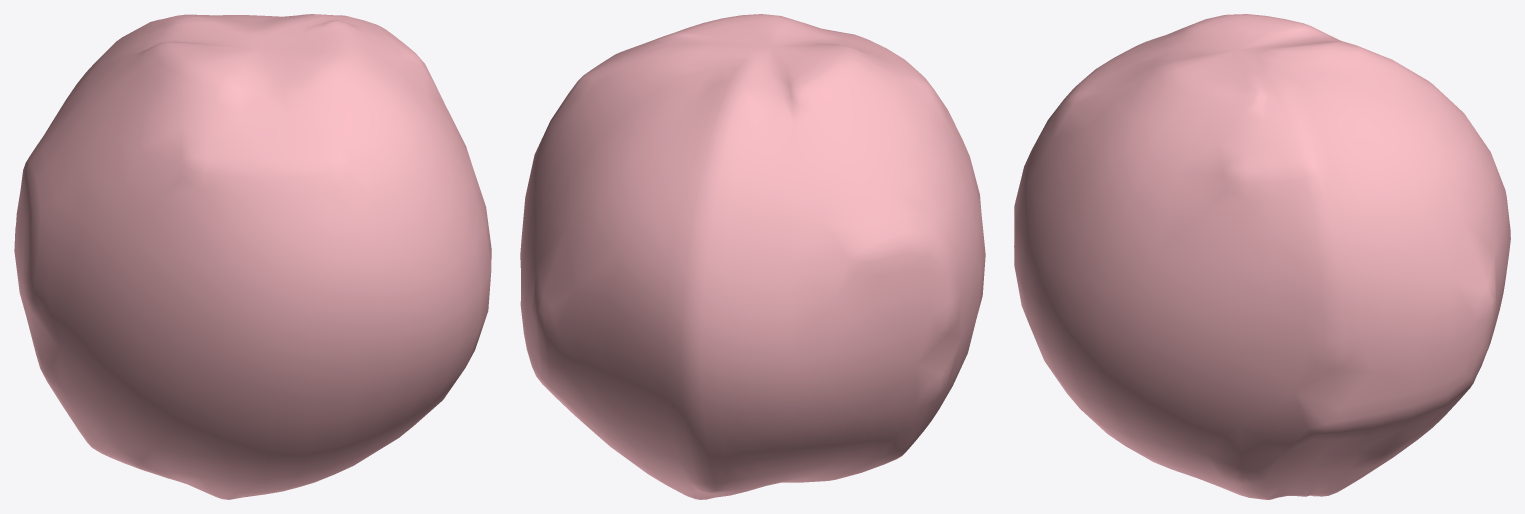
Rendered from PROP_Ball_v2.glb.
3 renders of one model, left to right at view 1: azimuth 30°, elevation 25°; view 2: azimuth 150°, elevation 25°; view 3: azimuth 270°, elevation 25°, orthographic. The views are drawn at different scales.
Parts seen in each view (by area): view 1: PROP_Ball_v2; view 2: PROP_Ball_v2; view 3: PROP_Ball_v2.
Boxes of the visible parts, <box> form: PROP_Ball_v2: <box>14,14,491,499</box>; PROP_Ball_v2: <box>520,14,985,499</box>; PROP_Ball_v2: <box>1014,14,1510,499</box>.
Size of the model in its own units: 0.6492 by 0.648 by 0.6878.
